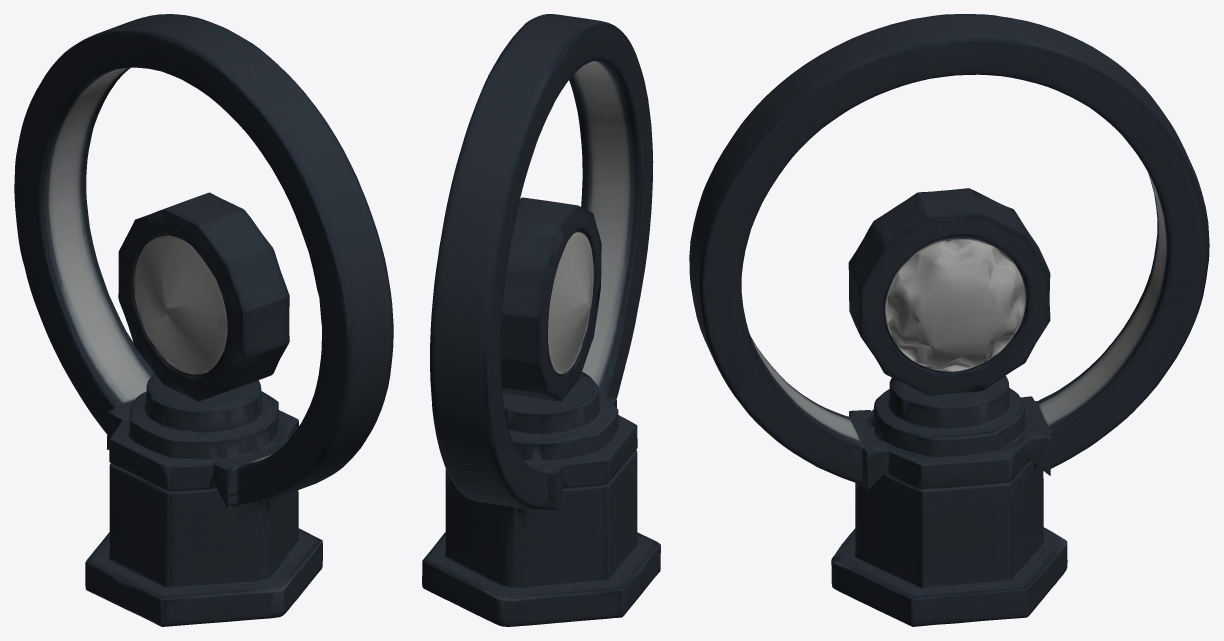
File: target.glb
3 renders of one model, left to right at view 1: azimuth 30°, elevation 25°; view 2: azimuth 150°, elevation 25°; view 3: azimuth 270°, elevation 25°, orthographic.
Visible parts, largest first — view 1: tripo_node_9de9349f-c613-40a3-a68c-b00b1f992f45; view 2: tripo_node_9de9349f-c613-40a3-a68c-b00b1f992f45; view 3: tripo_node_9de9349f-c613-40a3-a68c-b00b1f992f45.
Part boxes in pixels (bbox=[...]): tripo_node_9de9349f-c613-40a3-a68c-b00b1f992f45: bbox=[14, 14, 393, 626]; tripo_node_9de9349f-c613-40a3-a68c-b00b1f992f45: bbox=[422, 14, 660, 626]; tripo_node_9de9349f-c613-40a3-a68c-b00b1f992f45: bbox=[689, 14, 1209, 626].
Bounding box in the file's own units: 0.1159 × 0.3 × 0.2562.
Materials: 1 (1 with a texture image).
